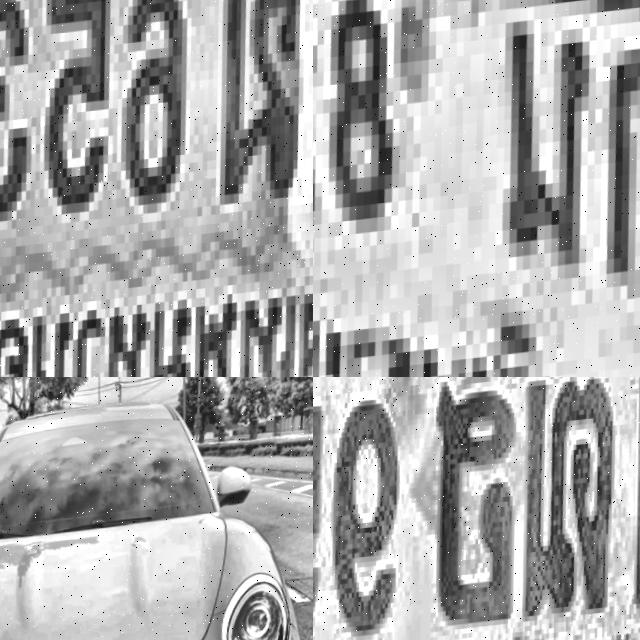license-plate: (313, 0, 640, 377), (0, 0, 313, 377), (313, 377, 640, 640)
